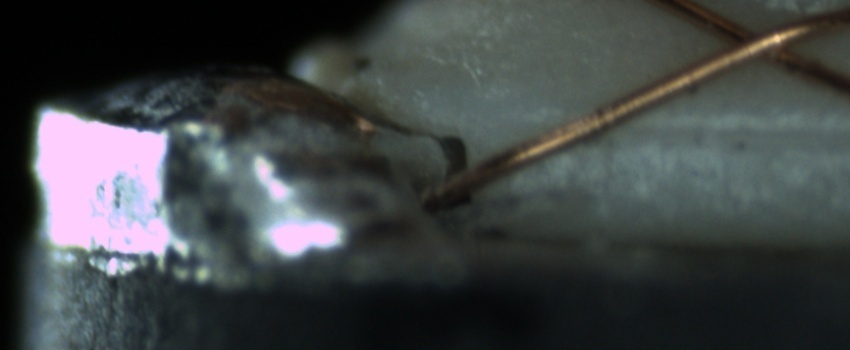CL: (695, 11, 820, 75)
DL: (550, 97, 846, 161)
